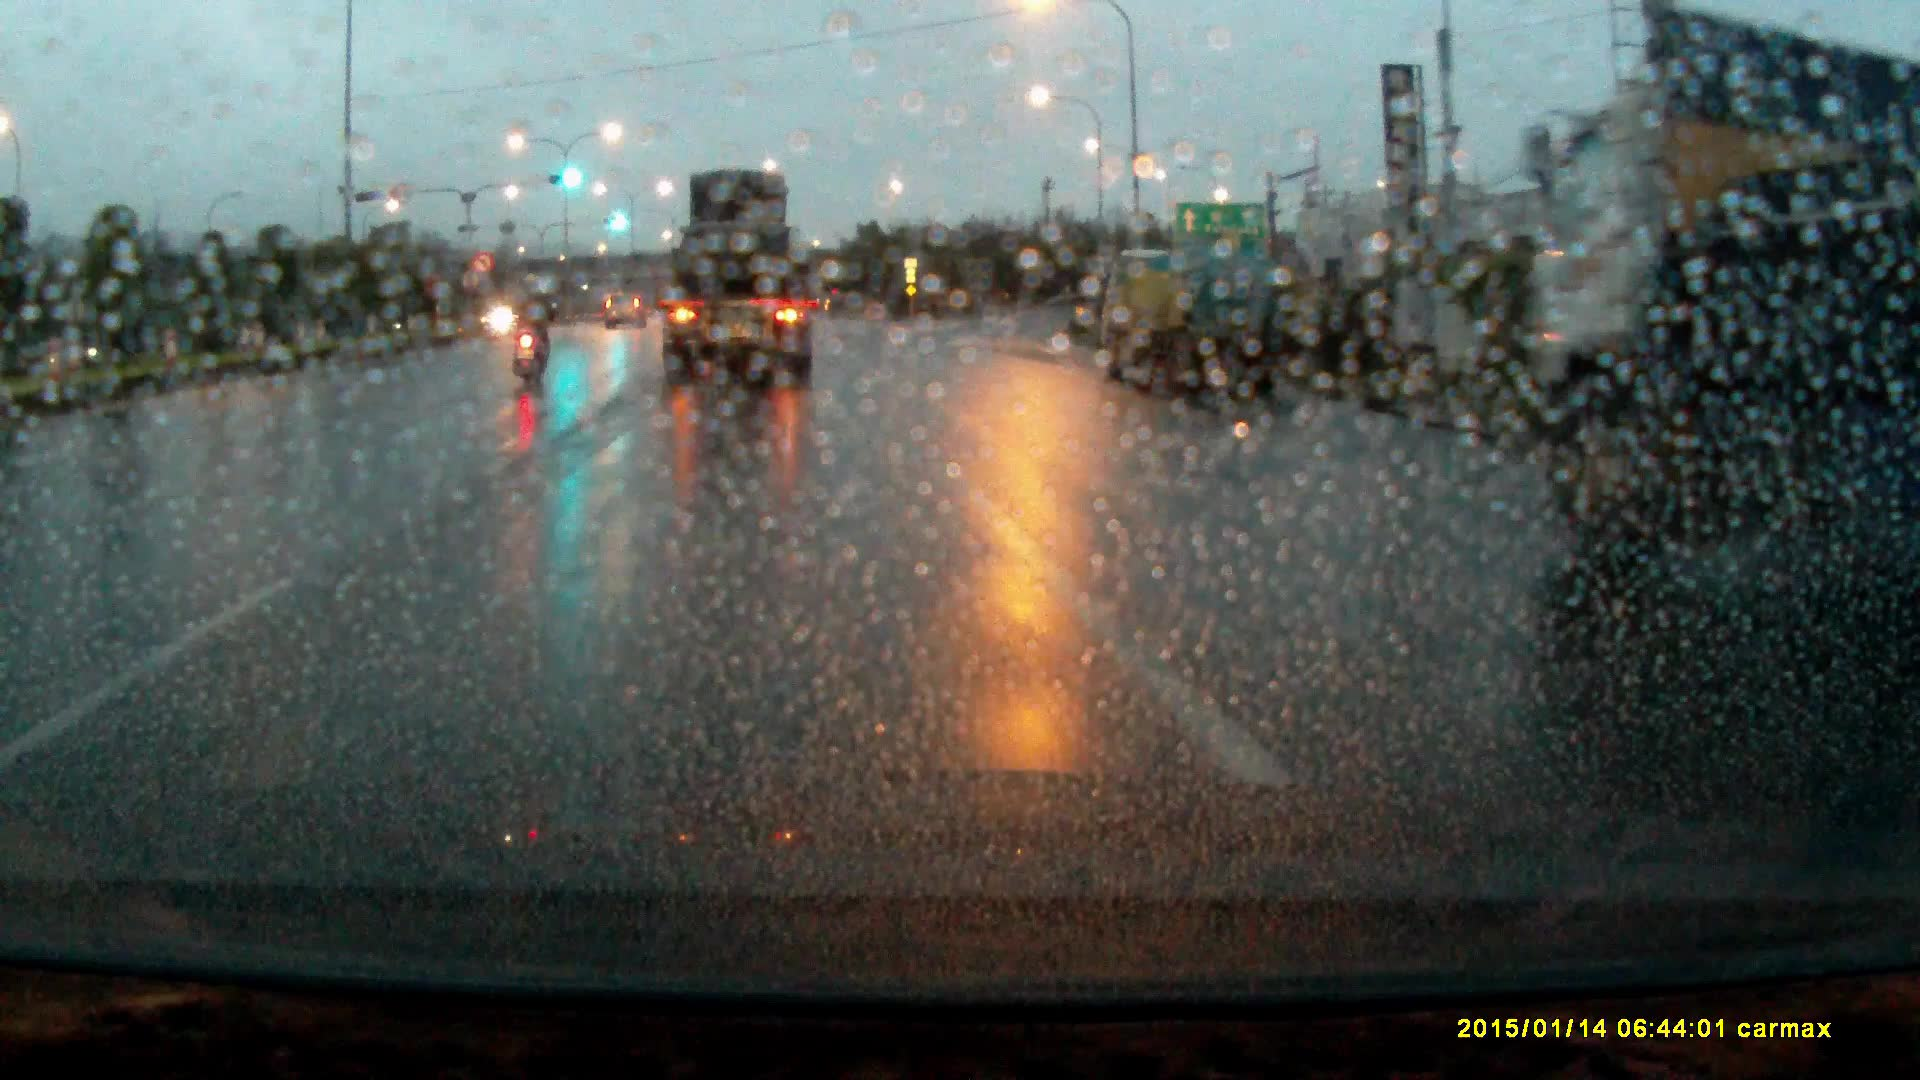rider: (508, 272, 562, 380)
vehicle: (1543, 22, 1920, 552), (657, 169, 817, 395), (1085, 250, 1299, 403), (604, 294, 647, 334)
